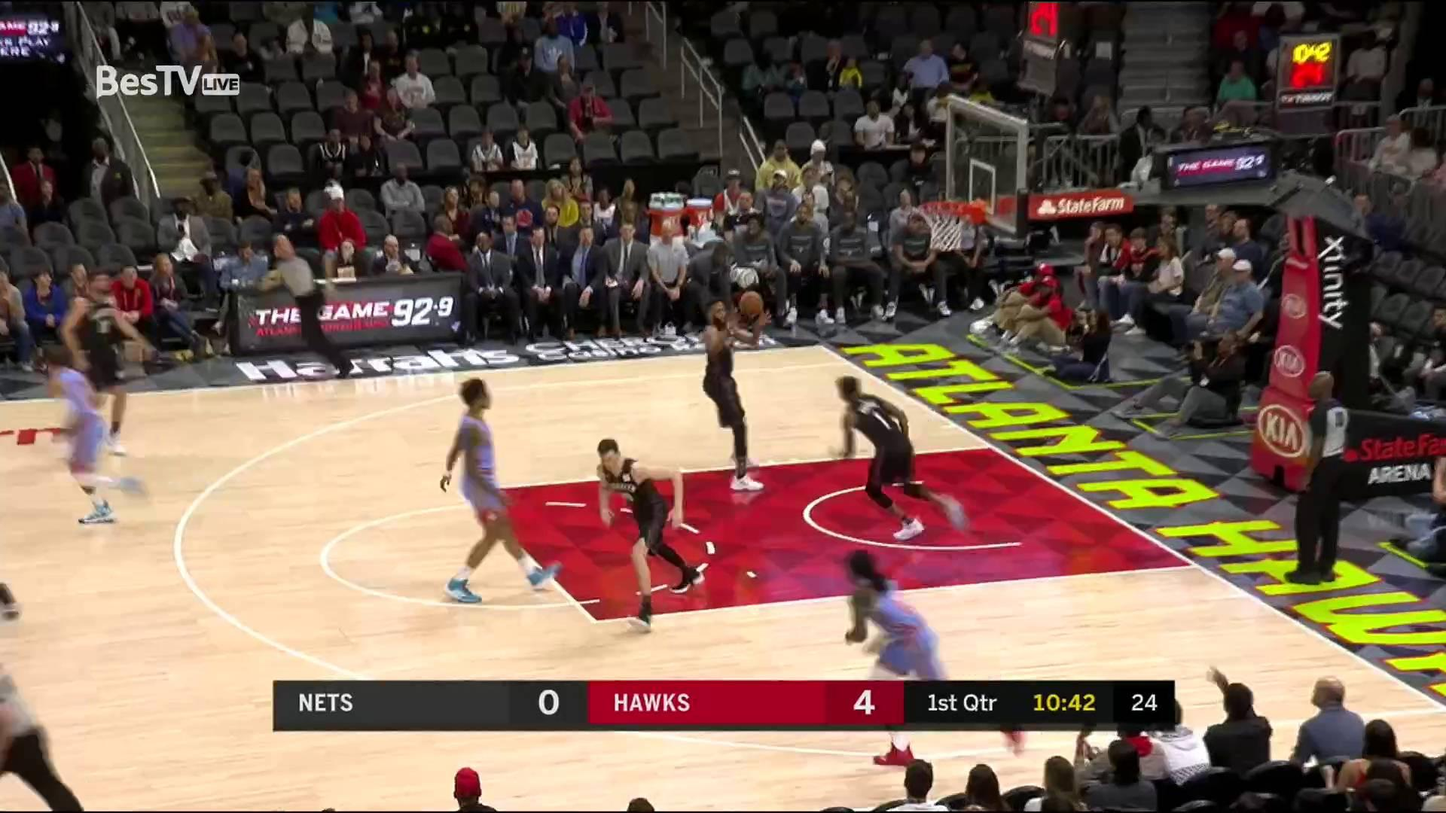basketball: (738, 289, 766, 319)
